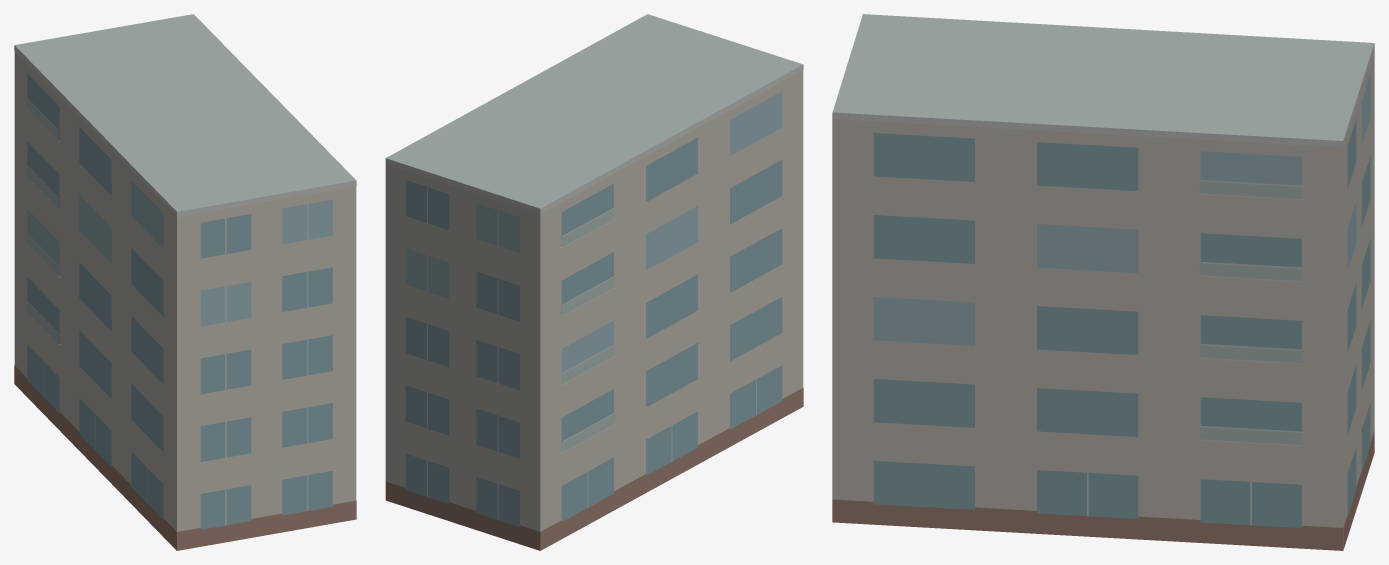
The model's file is survey-upis-32561989.glb.
3 views of the same model, side by side, from view 1: azimuth 30°, elevation 25°; view 2: azimuth 150°, elevation 25°; view 3: azimuth 270°, elevation 25° (orthographic). The views are drawn at different scales.
Visible parts, largest first — view 1: survey-upis-32561989.tmp; view 2: survey-upis-32561989.tmp; view 3: survey-upis-32561989.tmp.
Part boxes in pixels (box(x1,y1,x2,y2)): survey-upis-32561989.tmp: box(14, 14, 356, 550); survey-upis-32561989.tmp: box(385, 14, 803, 550); survey-upis-32561989.tmp: box(832, 14, 1374, 550).
Size of the model in its own units: 10.18 by 15.3 by 18.35.
